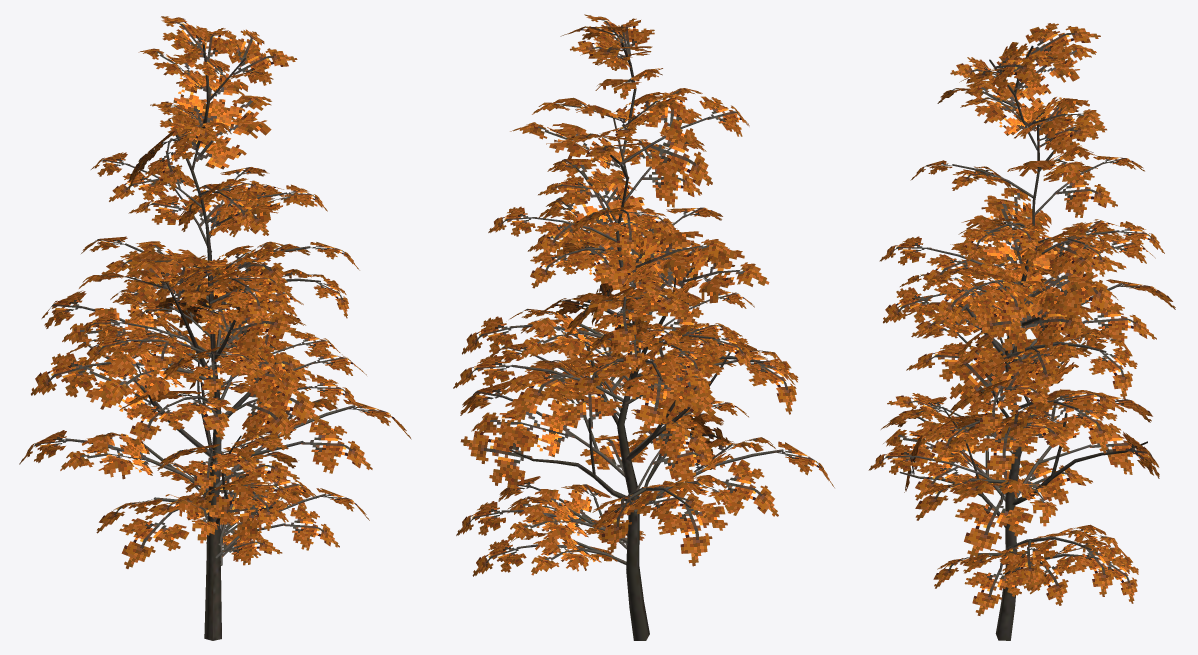
File: Bush2-3.fbx
The picture shows the model from 3 angles, left to right: view 1: azimuth 30°, elevation 25°; view 2: azimuth 150°, elevation 25°; view 3: azimuth 270°, elevation 25°; orthographic projection. The views are drawn at different scales.
Visible parts, largest first — view 1: Bush2-3_LOD0; view 2: Bush2-3_LOD0; view 3: Bush2-3_LOD0.
Part boxes in pixels (bbox=[...]): Bush2-3_LOD0: bbox=[19, 16, 411, 640]; Bush2-3_LOD0: bbox=[453, 14, 834, 640]; Bush2-3_LOD0: bbox=[868, 23, 1175, 640].
Size of what is drawn, in the model's own units: 1.19 by 0.915 by 1.94.
